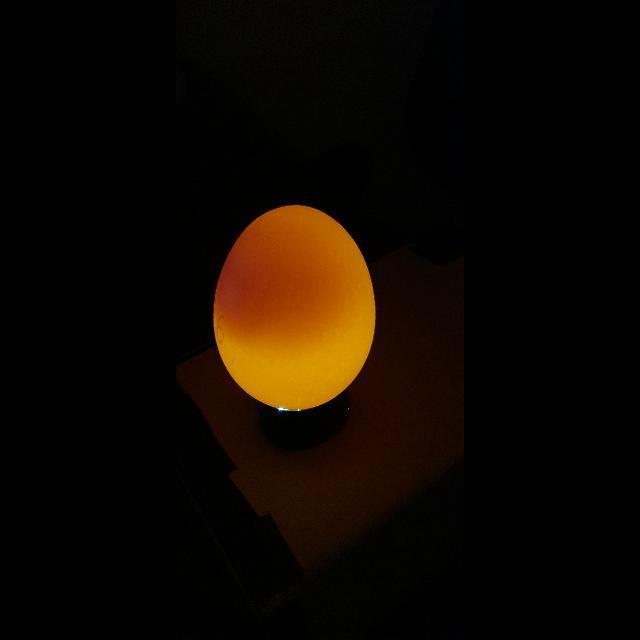Fertile: (209, 202, 375, 414)
